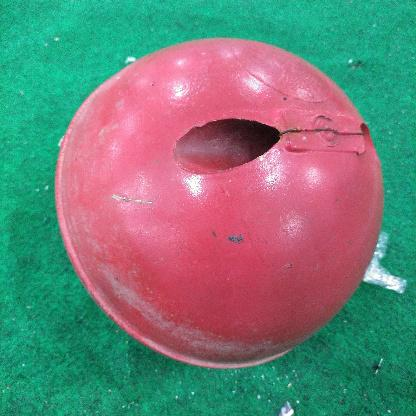red_buoy: (50, 33, 386, 372)
